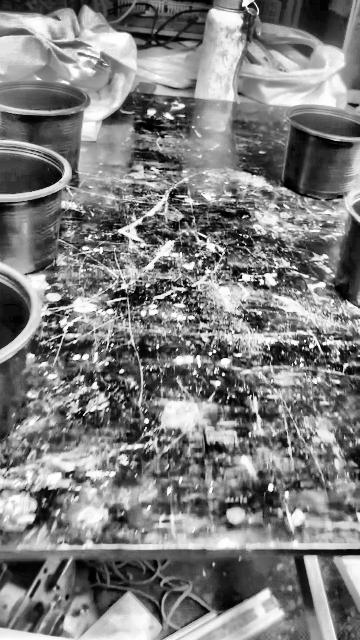pot: (0, 140, 71, 273), (0, 81, 89, 171), (0, 263, 41, 440), (283, 106, 359, 199), (335, 190, 359, 307)
